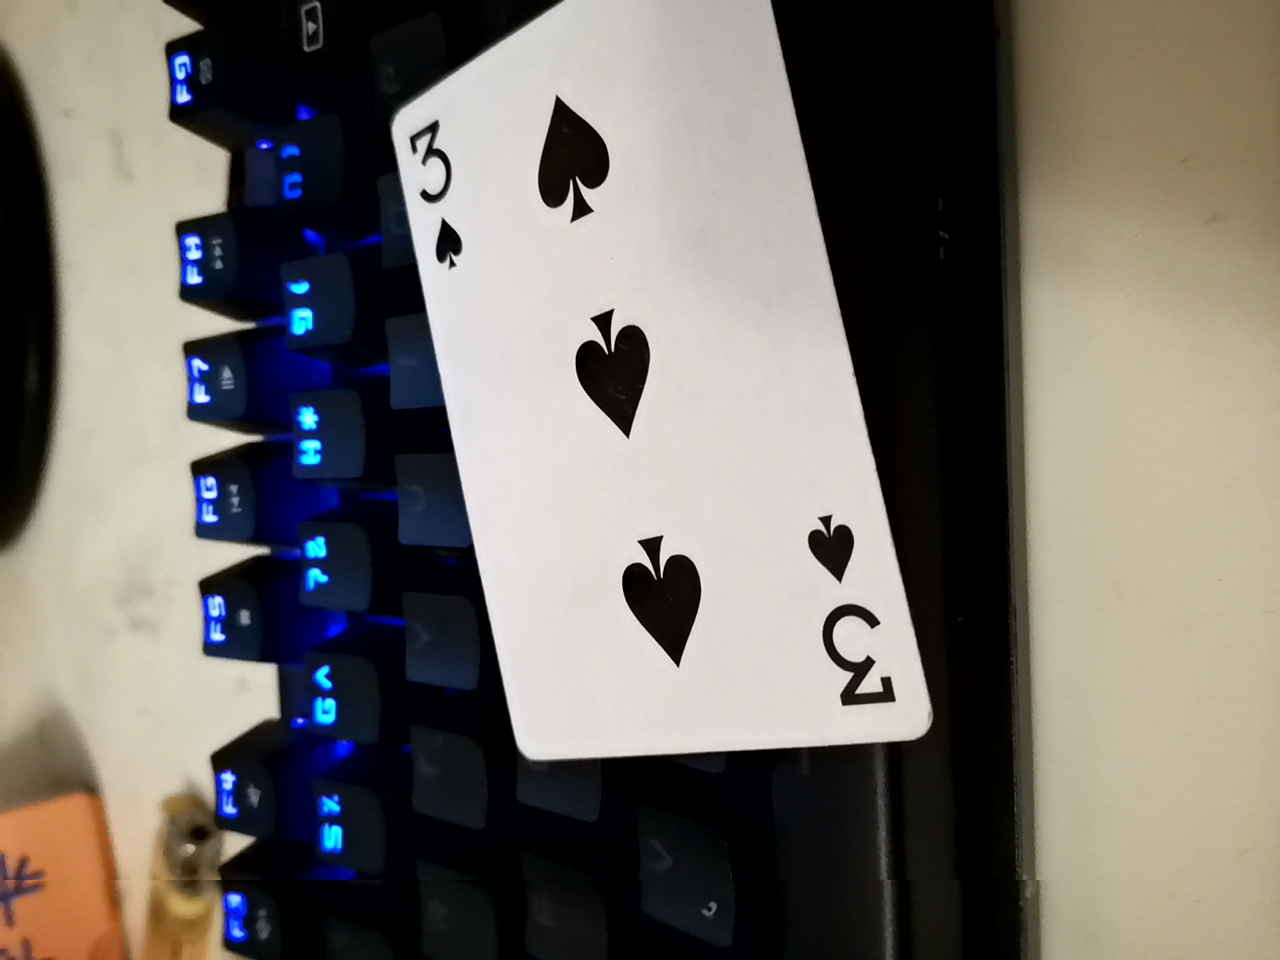ht 3: (370, 15, 907, 787)
